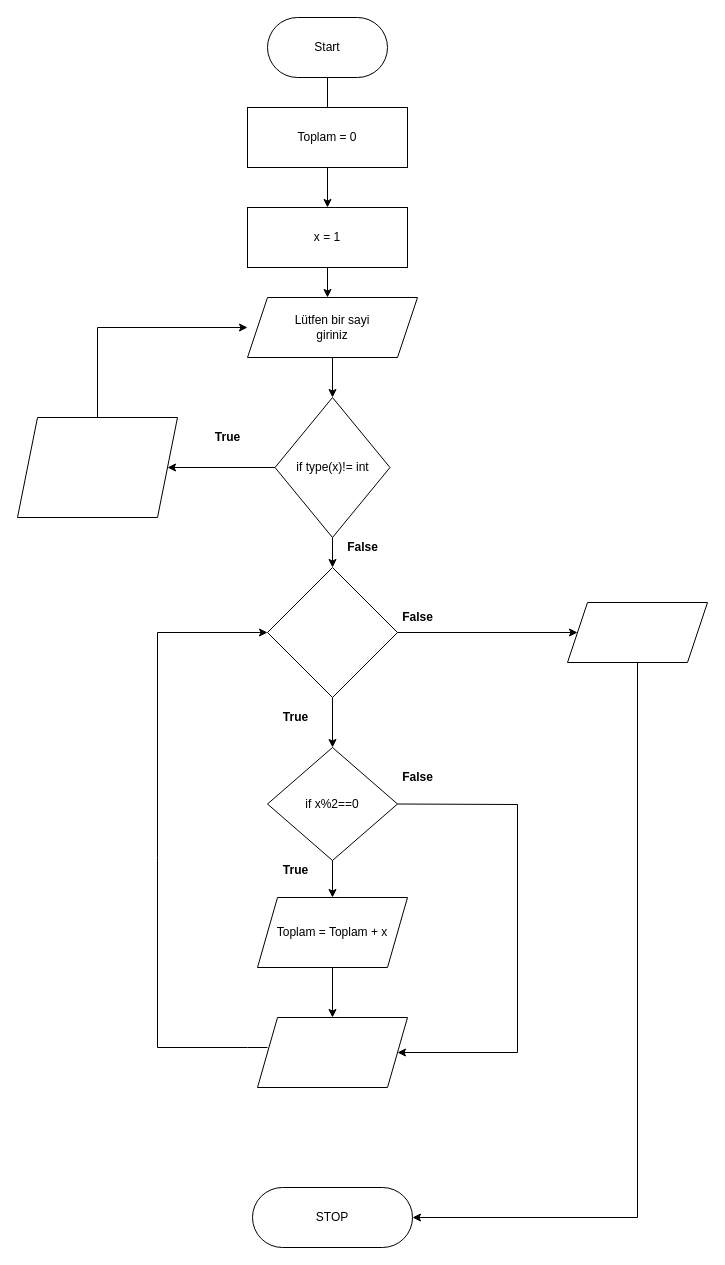
Some shapes in this 725 by 1265 pixel diagram are drawn without their labels. Here are the shapes that lost their labels. From the top down, the box of each, then its label:
(16, 416, 178, 518): print("Hatali giris")
(266, 566, 398, 698): if x<=100
(566, 602, 708, 662): print("toplam")
(256, 1016, 408, 1088): x = x +1
